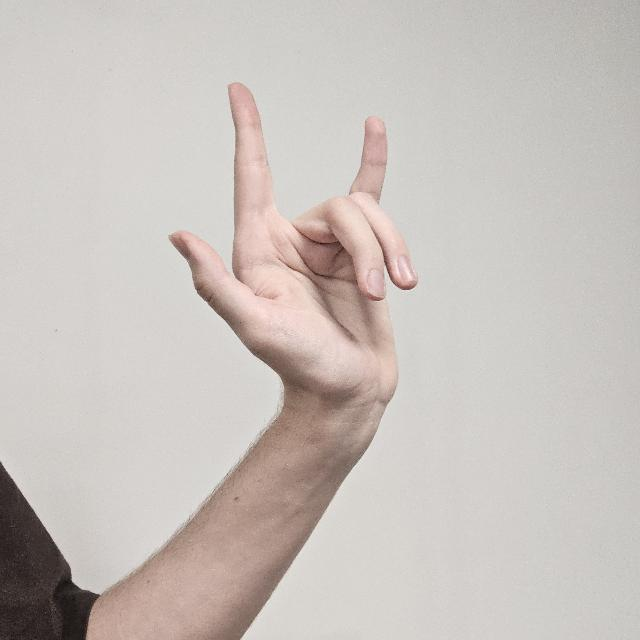Cima: (168, 77, 418, 423)
